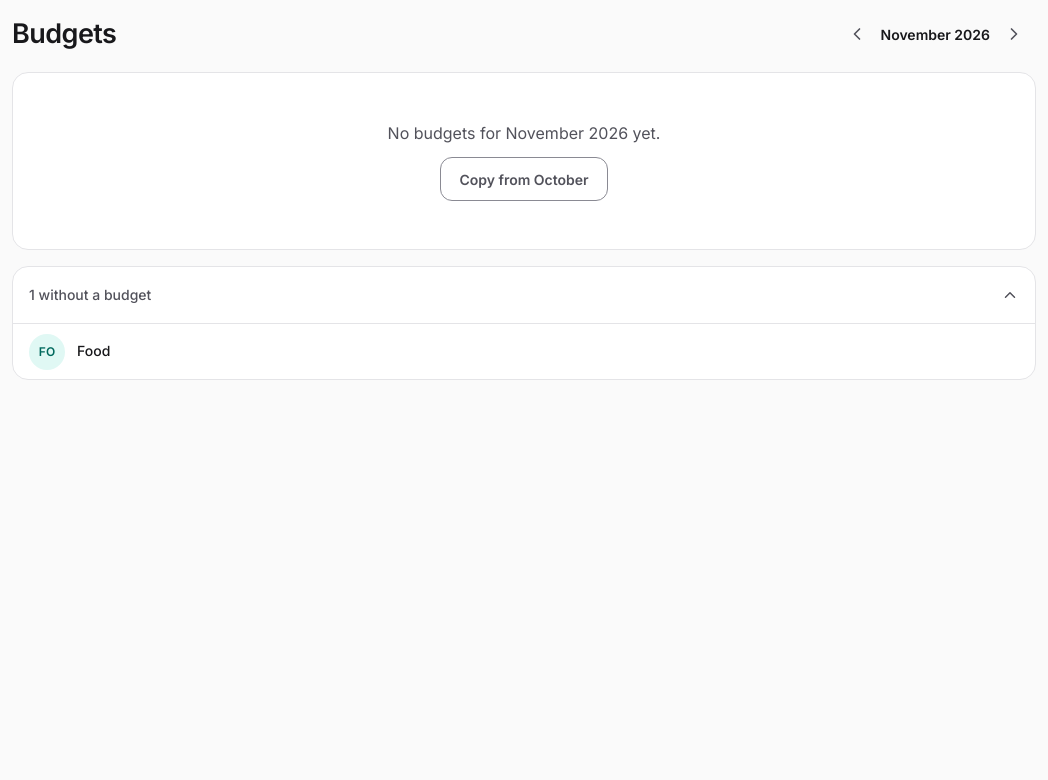
Test case: an empty month › reports how many budgets were copied
Click the button "Copy from October": (524, 179) [440,157,608,201]
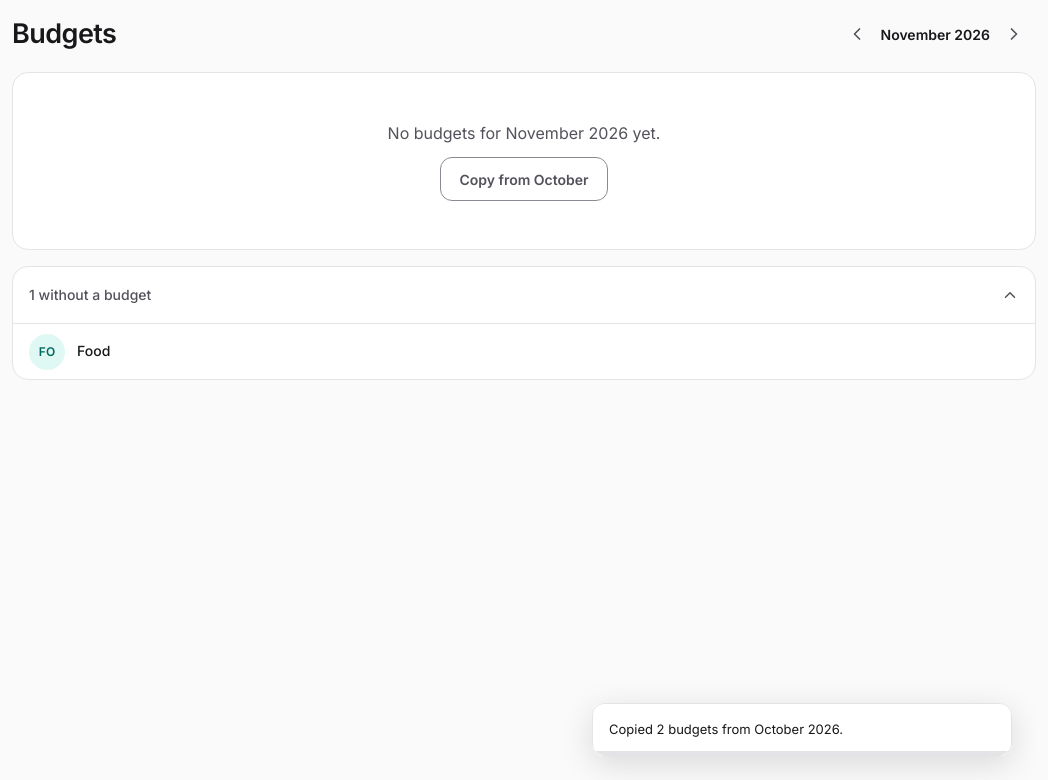
Expected: the text "Copied 2 budgets from October 2026." is shown, [609,720,843,736]
